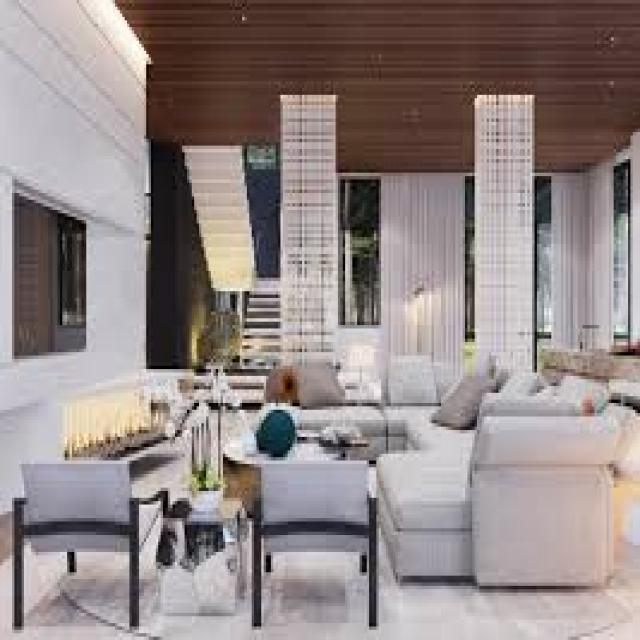Chair: (7, 455, 167, 630), (248, 454, 381, 633)
Sofa: (256, 352, 629, 596)
